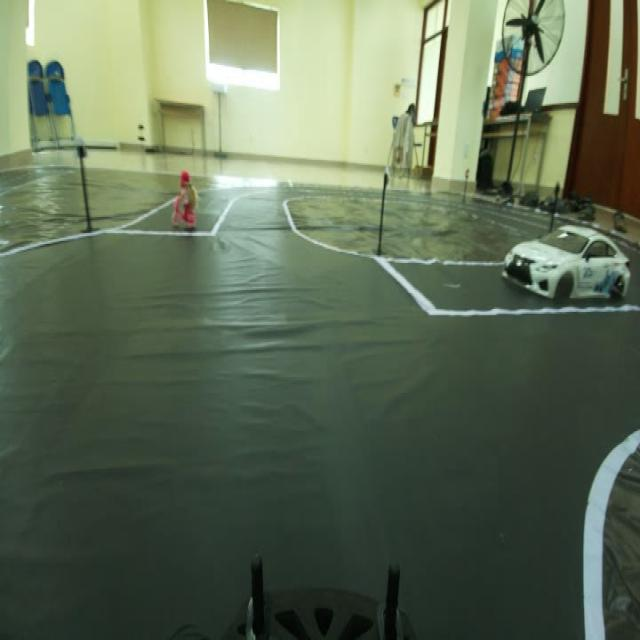car: (500, 204, 624, 308)
